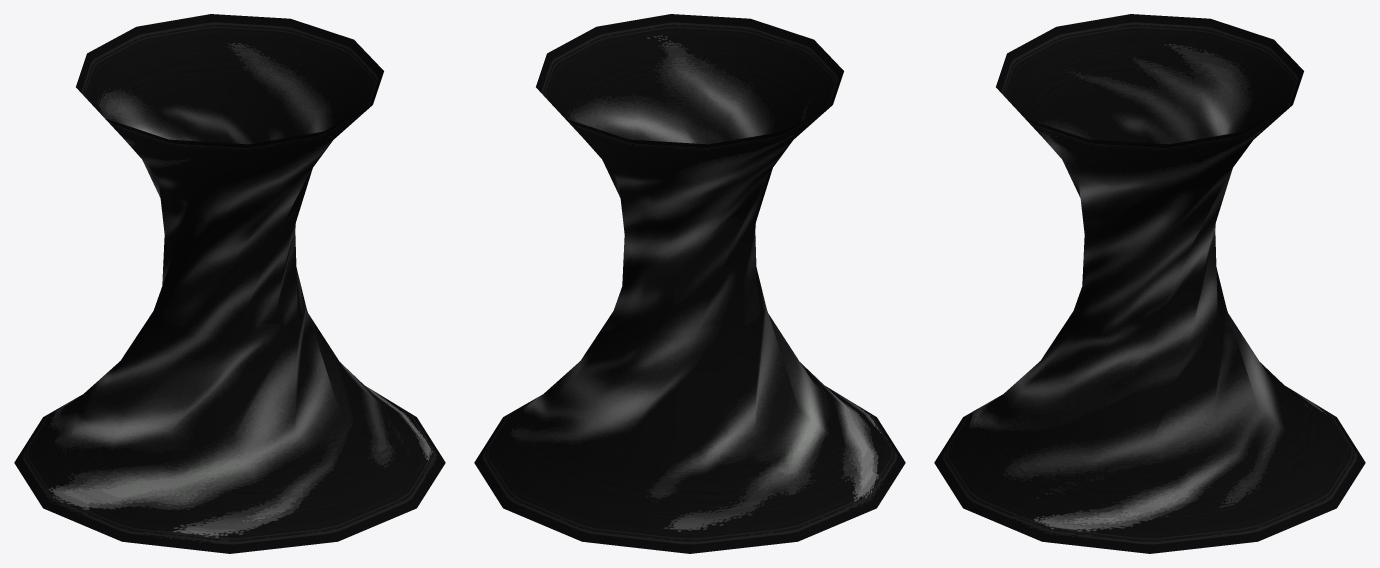
File: longjuanfeng_02.FBX
3 renders of one model, left to right at view 1: azimuth 30°, elevation 25°; view 2: azimuth 150°, elevation 25°; view 3: azimuth 270°, elevation 25°, orthographic.
Visible parts, largest first — view 1: Cylinder002; view 2: Cylinder002; view 3: Cylinder002.
Part boxes in pixels (x1,y1,x2,y2): Cylinder002: (14, 14, 445, 553); Cylinder002: (474, 14, 905, 553); Cylinder002: (934, 14, 1365, 553).
Size of the model in its own units: 100 by 98.15 by 100.
